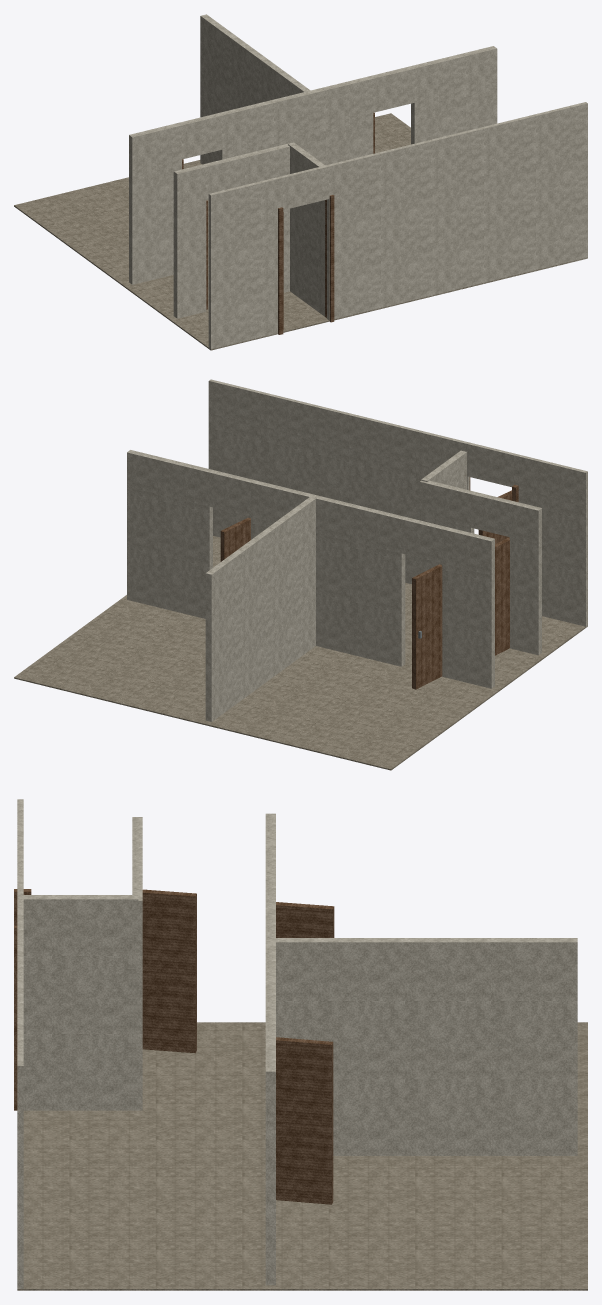
Rendered from PZ_Midrise_UnitLayout_TwoBed_C.glb.
The picture shows the model from 3 angles, top to bottom: view 1: azimuth 30°, elevation 25°; view 2: azimuth 150°, elevation 25°; view 3: azimuth 270°, elevation 25°; orthographic projection. The views are drawn at different scales.
Parts seen in each view (by area): view 1: TwoBed_C_CorridorEntryWall_TRUE_0p90m_OPENING, TwoBed_C_TwoBedroomsMainDivider, TwoBed_C_FloorFinish, TwoBed_C_BathroomDivider, TwoBed_C_BedroomSeparation, TwoBed_C_BathroomSide, TwoBed_C_EntryDoorCasingsR, TwoBed_C_EntryDoorCasings; view 2: TwoBed_C_TwoBedroomsMainDivider, TwoBed_C_FloorFinish, TwoBed_C_CorridorEntryWall_TRUE_0p90m_OPENING, TwoBed_C_BedroomSeparation, TwoBed_C_BathroomDivider, TwoBed_C_BedroomOne_Leaf, TwoBed_C_Bathroom_Leaf, TwoBed_C_BathroomSide, TwoBed_C_BedroomTwo_Leaf; view 3: TwoBed_C_FloorFinish, TwoBed_C_BedroomSeparation, TwoBed_C_BathroomSide, TwoBed_C_BedroomTwo_Leaf, TwoBed_C_Bathroom_Leaf, TwoBed_C_TwoBedroomsMainDivider, TwoBed_C_CorridorEntryWall_TRUE_0p90m_OPENING, TwoBed_C_BathroomDivider, TwoBed_C_BedroomOne_Leaf, TwoBed_C_EntryDoorCasingsR.
Part boxes in pixels (<box>): TwoBed_C_CorridorEntryWall_TRUE_0p90m_OPENING: <box>208,102,587,350</box>; TwoBed_C_TwoBedroomsMainDivider: <box>129,46,497,284</box>; TwoBed_C_FloorFinish: <box>14,113,587,350</box>; TwoBed_C_BathroomDivider: <box>173,142,292,318</box>; TwoBed_C_BedroomSeparation: <box>200,14,310,164</box>; TwoBed_C_BathroomSide: <box>288,142,326,316</box>; TwoBed_C_EntryDoorCasingsR: <box>325,195,334,322</box>; TwoBed_C_EntryDoorCasings: <box>278,207,283,334</box>; TwoBed_C_TwoBedroomsMainDivider: <box>127,450,494,688</box>; TwoBed_C_FloorFinish: <box>14,536,587,770</box>; TwoBed_C_CorridorEntryWall_TRUE_0p90m_OPENING: <box>208,379,587,627</box>; TwoBed_C_BedroomSeparation: <box>205,495,316,721</box>; TwoBed_C_BathroomDivider: <box>419,480,541,655</box>; TwoBed_C_BedroomOne_Leaf: <box>412,564,442,689</box>; TwoBed_C_Bathroom_Leaf: <box>495,537,509,655</box>; TwoBed_C_BathroomSide: <box>421,450,466,489</box>; TwoBed_C_BedroomTwo_Leaf: <box>220,517,250,561</box>; TwoBed_C_FloorFinish: <box>17,1022,587,1290</box>; TwoBed_C_BedroomSeparation: <box>276,938,577,1155</box>; TwoBed_C_BathroomSide: <box>23,895,138,1110</box>; TwoBed_C_BedroomTwo_Leaf: <box>276,1037,333,1204</box>; TwoBed_C_Bathroom_Leaf: <box>142,889,196,1053</box>; TwoBed_C_TwoBedroomsMainDivider: <box>265,813,275,1285</box>; TwoBed_C_CorridorEntryWall_TRUE_0p90m_OPENING: <box>17,799,23,1288</box>; TwoBed_C_BathroomDivider: <box>132,817,142,1110</box>; TwoBed_C_BedroomOne_Leaf: <box>276,902,334,937</box>; TwoBed_C_EntryDoorCasingsR: <box>14,925,17,1110</box>.
Bounding box in the file's own units: 7.3 × 2.87 × 6.64.
4 materials, 4 textured.
